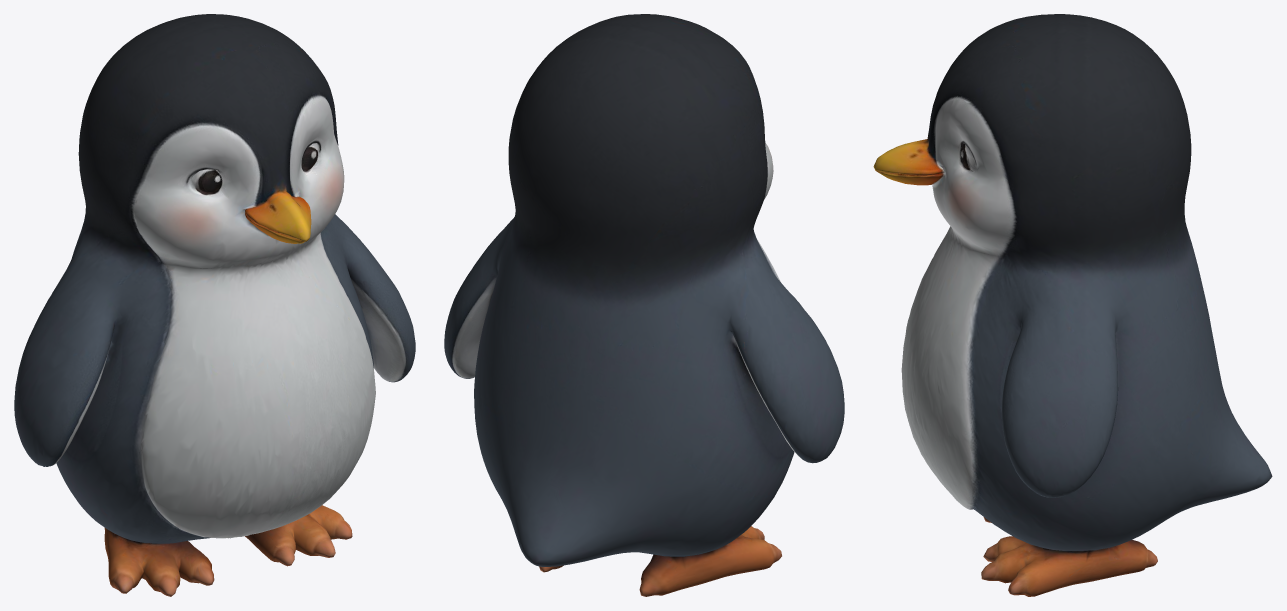
File: penguin.glb
3 views of the same model, side by side, from view 1: azimuth 30°, elevation 25°; view 2: azimuth 150°, elevation 25°; view 3: azimuth 270°, elevation 25° (orthographic).
Parts seen in each view (by area): view 1: tripo_node_622f46bf-b8ba-41ca-a6fc-24f7fe81d4e6; view 2: tripo_node_622f46bf-b8ba-41ca-a6fc-24f7fe81d4e6; view 3: tripo_node_622f46bf-b8ba-41ca-a6fc-24f7fe81d4e6.
Boxes of the visible parts, bbox=[...] form: tripo_node_622f46bf-b8ba-41ca-a6fc-24f7fe81d4e6: bbox=[14, 14, 415, 596]; tripo_node_622f46bf-b8ba-41ca-a6fc-24f7fe81d4e6: bbox=[444, 14, 844, 596]; tripo_node_622f46bf-b8ba-41ca-a6fc-24f7fe81d4e6: bbox=[873, 14, 1272, 596].
Bounding box in the file's own units: 0.7384 × 0.9795 × 0.6846.
1 material, 1 textured.
